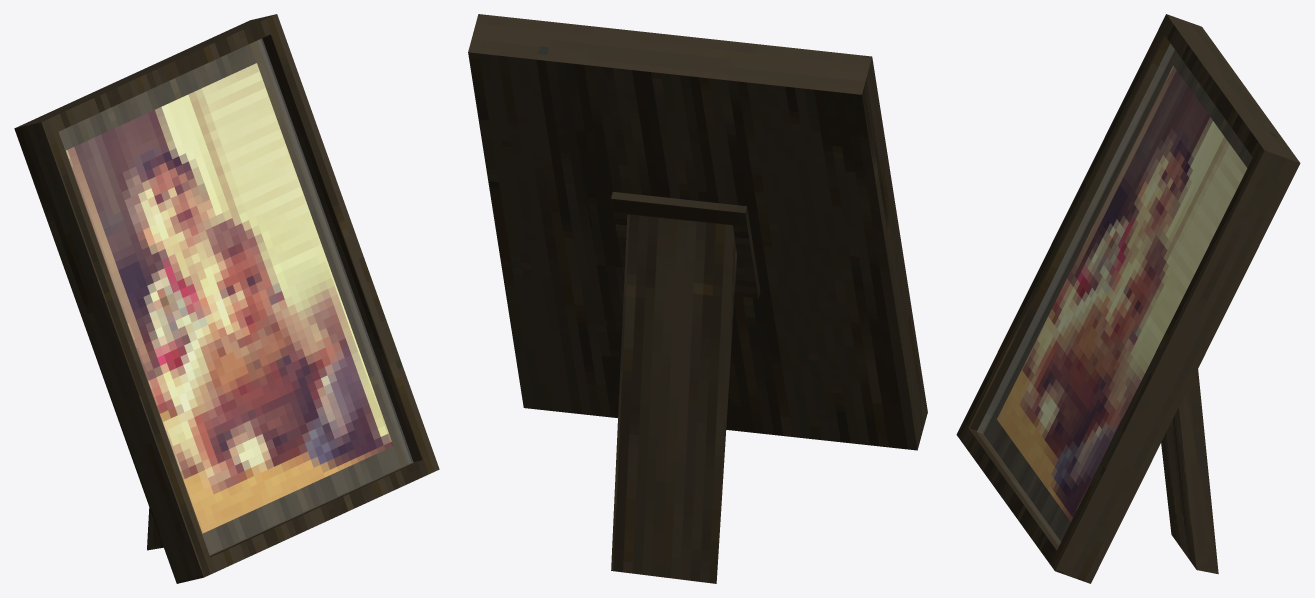
The model's file is frame.fbx.
3 renders of one model, left to right at view 1: azimuth 30°, elevation 25°; view 2: azimuth 150°, elevation 25°; view 3: azimuth 270°, elevation 25°, orthographic. The views are drawn at different scales.
Visible parts, largest first — view 1: model; view 2: model; view 3: model.
Part boxes in pixels (x1,y1,x2,y2): model: [14, 14, 439, 583]; model: [468, 14, 927, 583]; model: [956, 14, 1300, 583].
Size of the model in its own units: 24.8 by 31.64 by 21.01.
